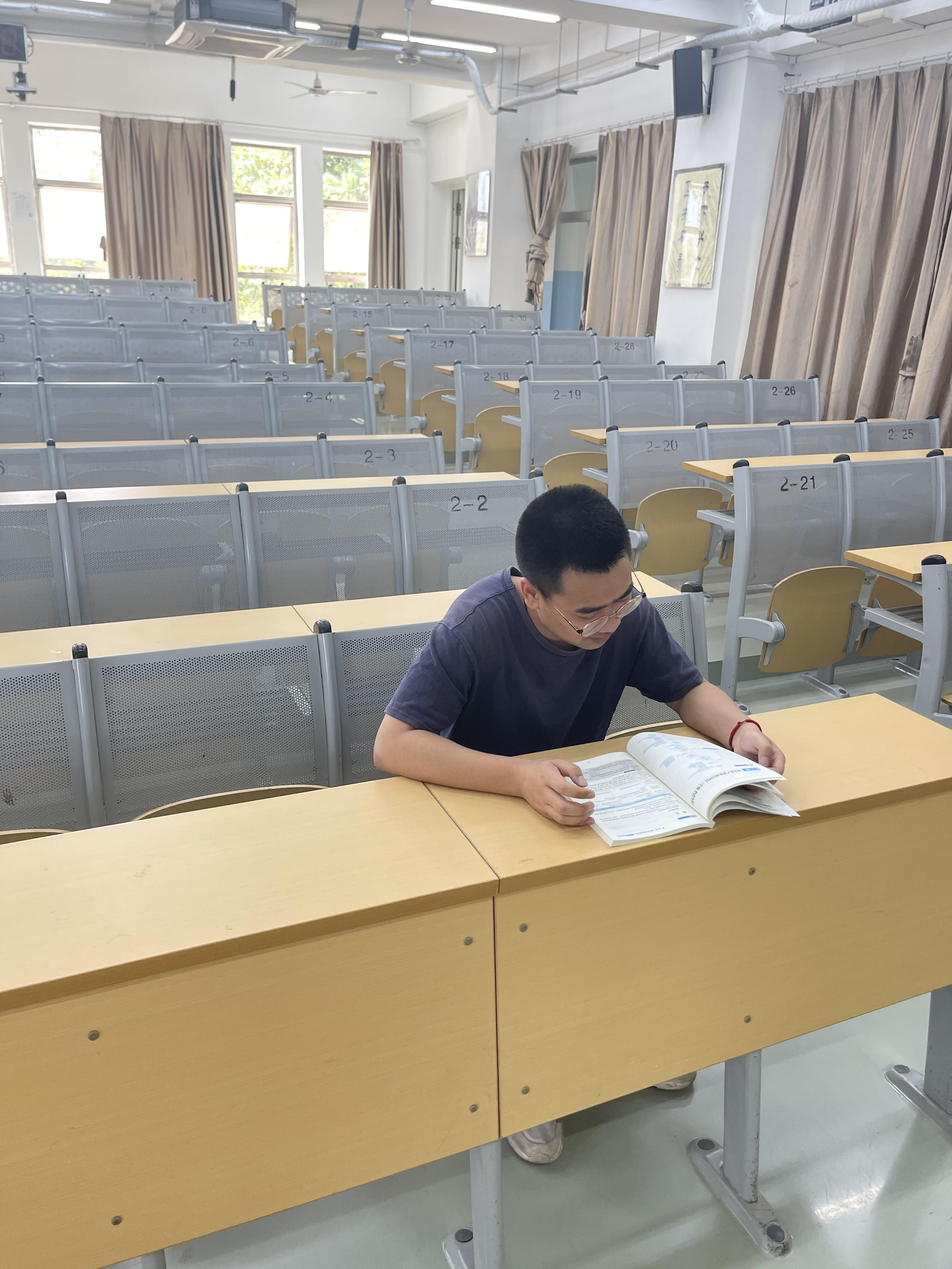study: (369, 486, 794, 828)
